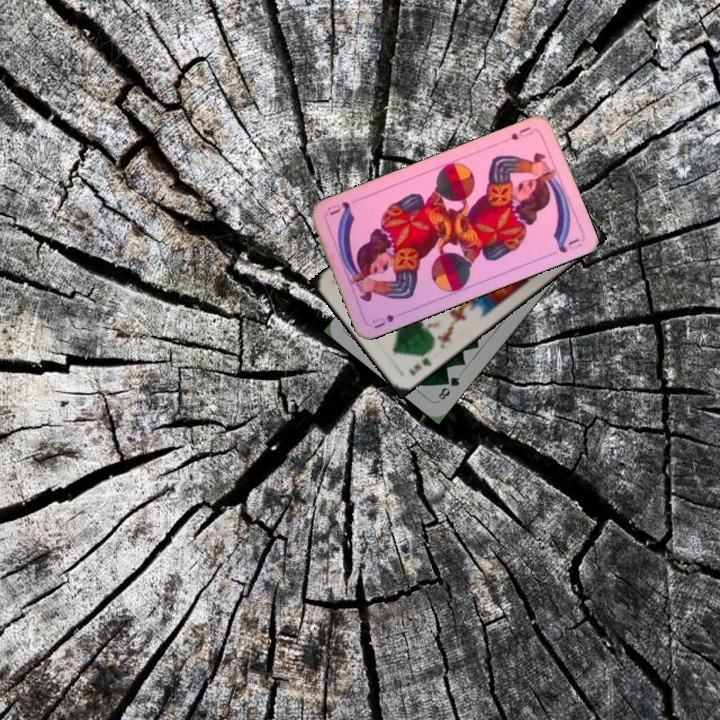G8: (434, 372, 463, 404)
GK: (405, 353, 434, 378)
SU: (368, 308, 407, 331), (506, 123, 535, 143)
